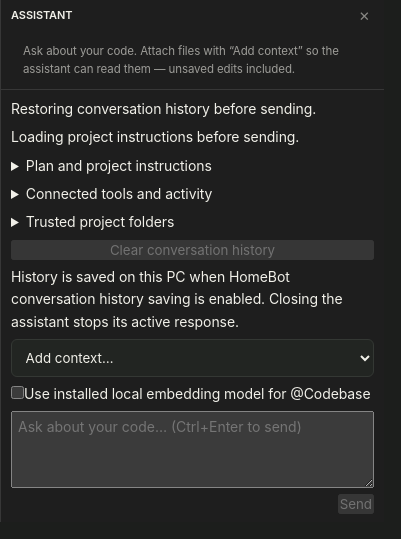
Test case: IDE assistant lifecycle and approval controls › clear deletes this project model context and persisted transcript, while preserving other chat IDs
Type "private question" into the text box named "Ask the assistant" at (192, 450), box x1=11 y1=411 x2=374 y2=488
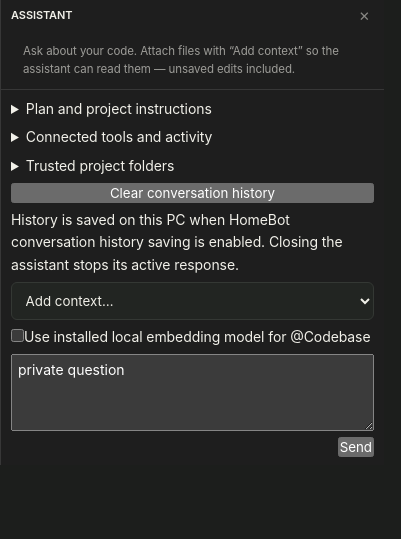
Check: the button "Send" is enabled
Click the button "Send" at (356, 447), box x1=338 y1=437 x2=374 y2=457
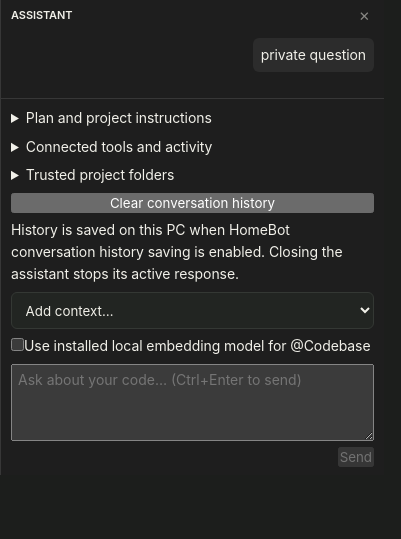
Click the button "Clear conversation history" at (192, 203), box x1=11 y1=193 x2=374 y2=213
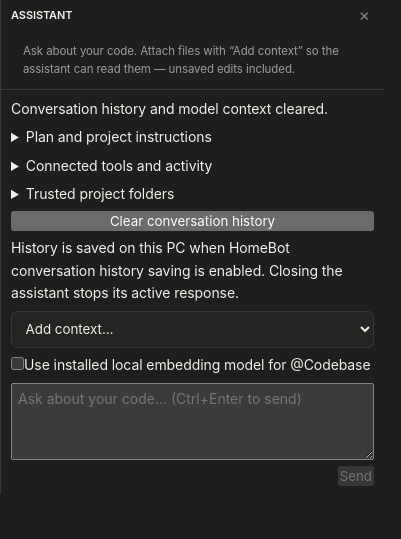
Check: the element named "Assistant conversation" no longer shows "private question", box x1=23 y1=44 x2=339 y2=76
Check: the message reads "Conversation history and model context cleared.", box x1=11 y1=100 x2=328 y2=117
